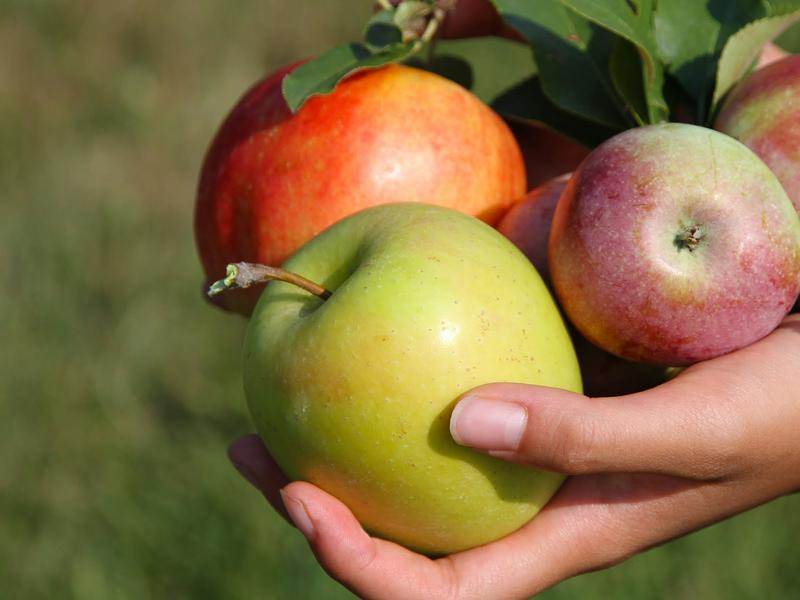apple: (229, 195, 601, 551), (545, 108, 800, 366)
